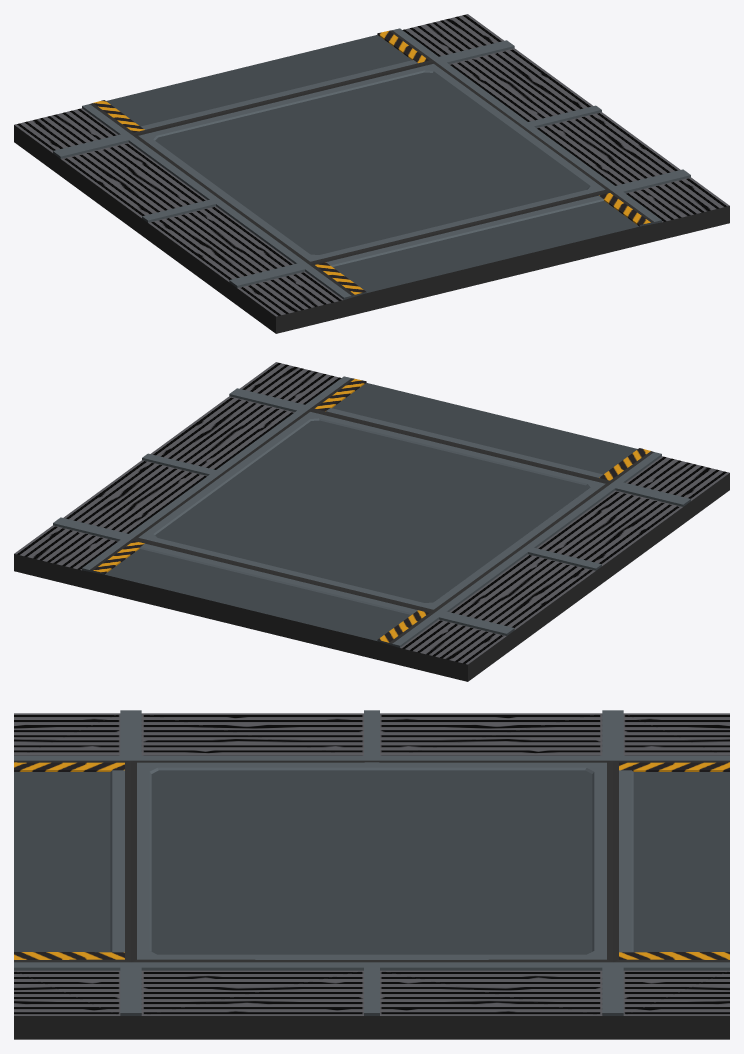
The model's file is SM_Bld_Floor_08.fbx.
The picture shows the model from 3 angles, top to bottom: view 1: azimuth 30°, elevation 25°; view 2: azimuth 150°, elevation 25°; view 3: azimuth 270°, elevation 25°; orthographic projection. The views are drawn at different scales.
Parts seen in each view (by area): view 1: SM_Bld_Floor_08; view 2: SM_Bld_Floor_08; view 3: SM_Bld_Floor_08.
Part boxes in pixels (left/top/right/bottom): SM_Bld_Floor_08: left=14, top=14, right=729, bottom=333; SM_Bld_Floor_08: left=14, top=362, right=729, bottom=681; SM_Bld_Floor_08: left=14, top=710, right=729, bottom=1039.
Bounding box in the file's own units: 500 × 21.2 × 500.
1 material, 1 textured.
